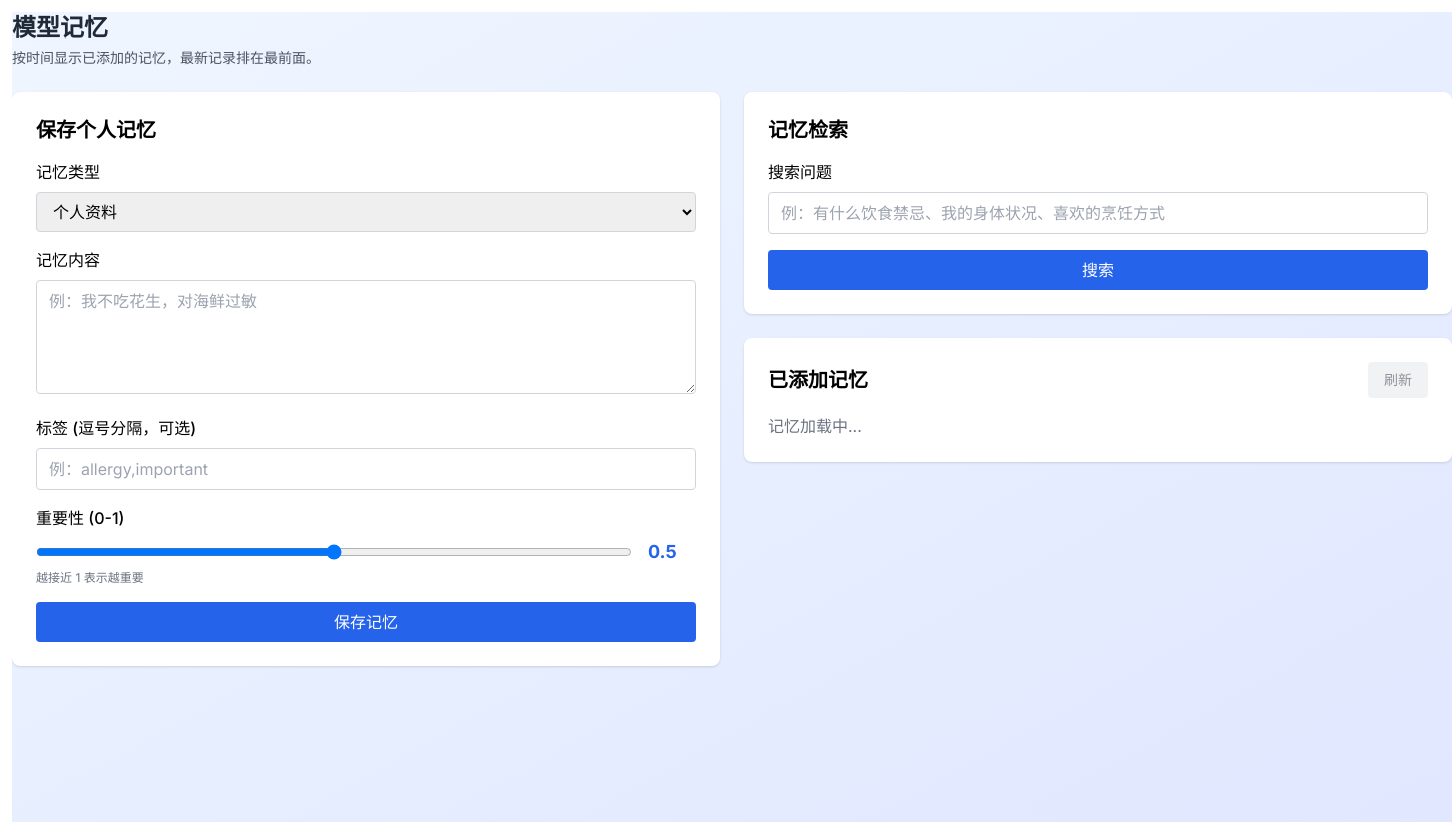
MemorySearch › shows search trace id in result
Type "饮食禁忌" into the field with placeholder "例：有什么饮食禁忌、我的身体状况、喜欢的烹饪方式" at (1098, 213), box [768,192,1428,234]
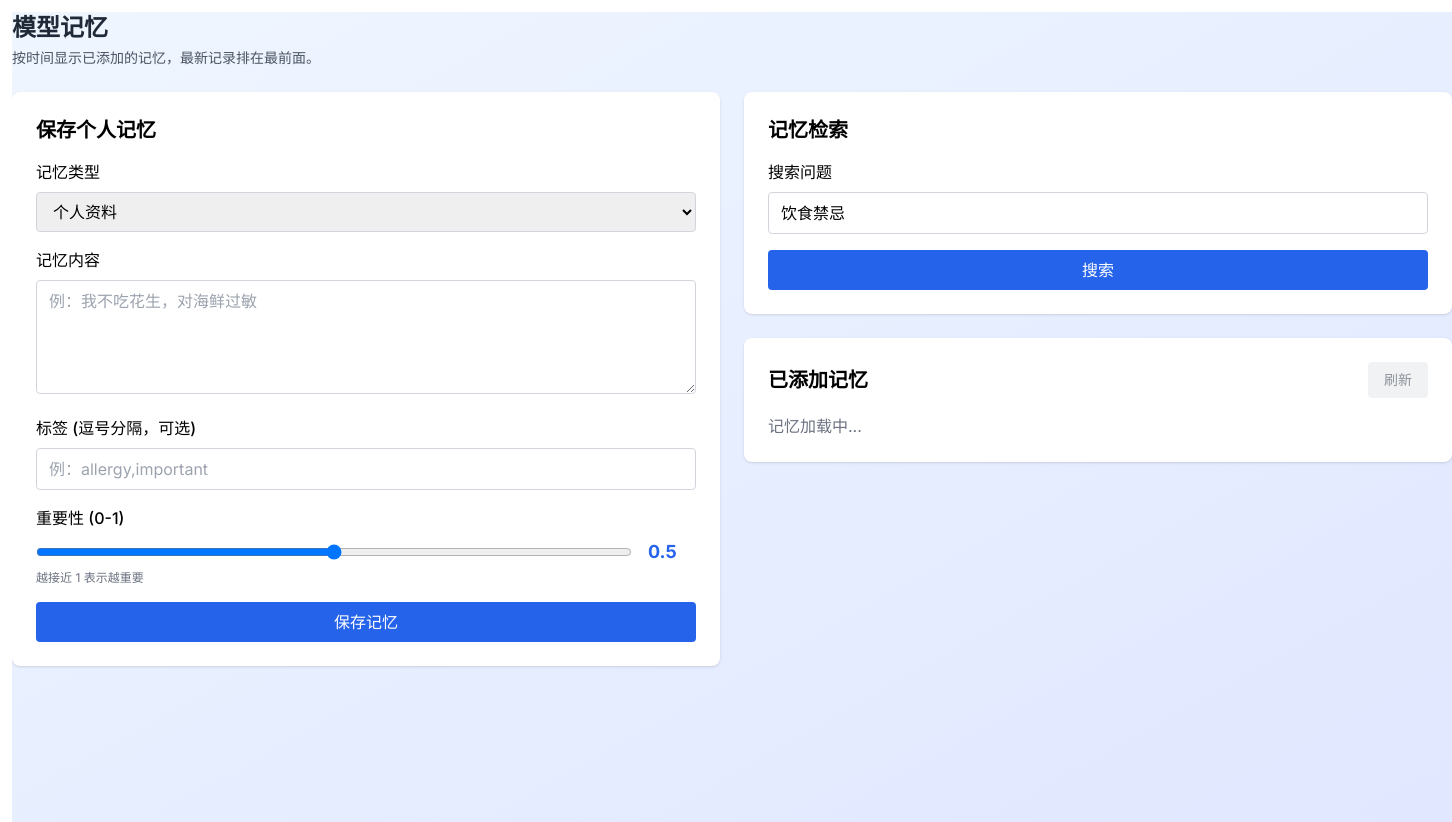
Click the button "搜索" at (1098, 270), box [768,250,1428,290]
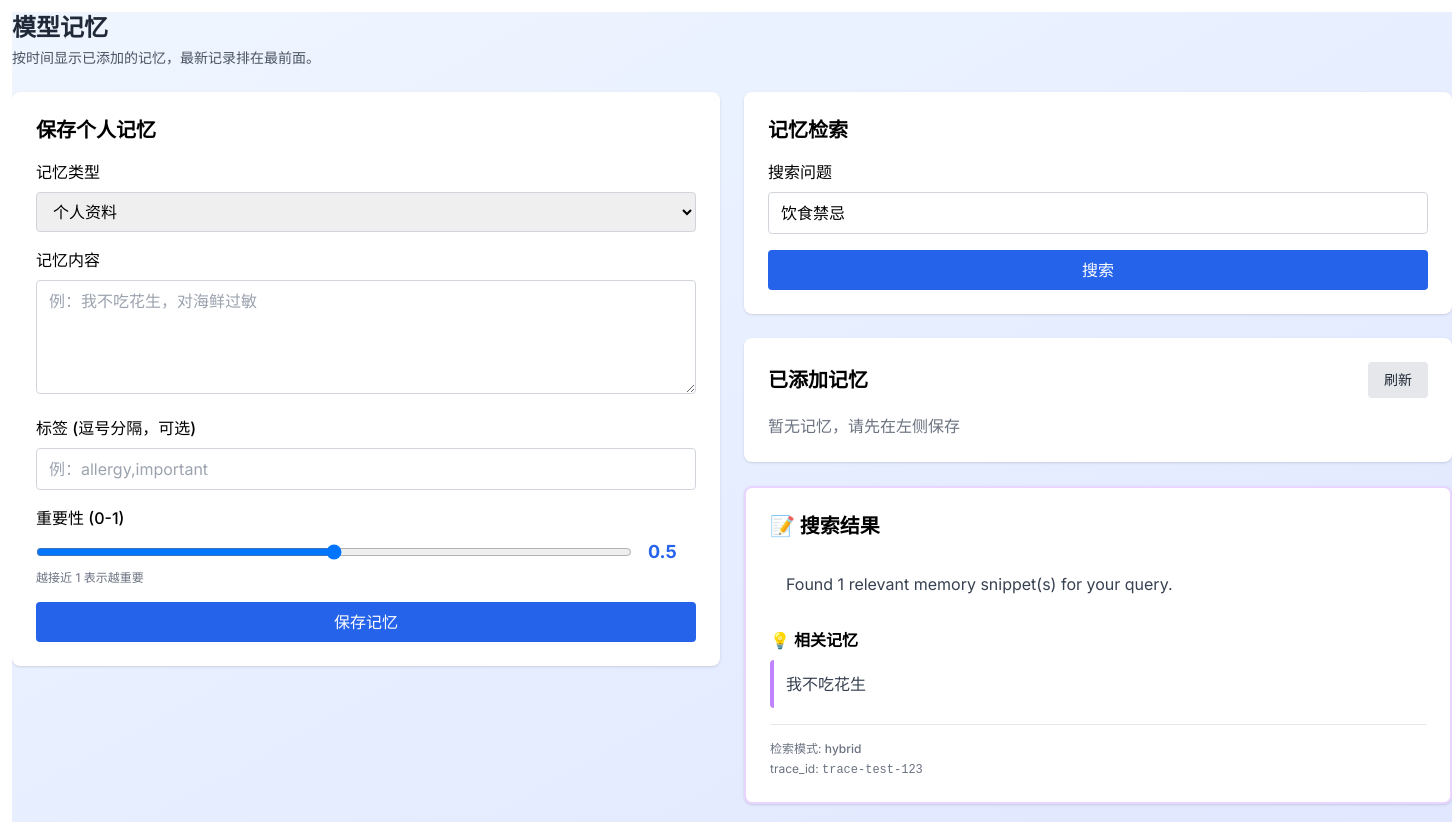
Check: the text "trace-test-123" is shown, box [822,763,923,777]
